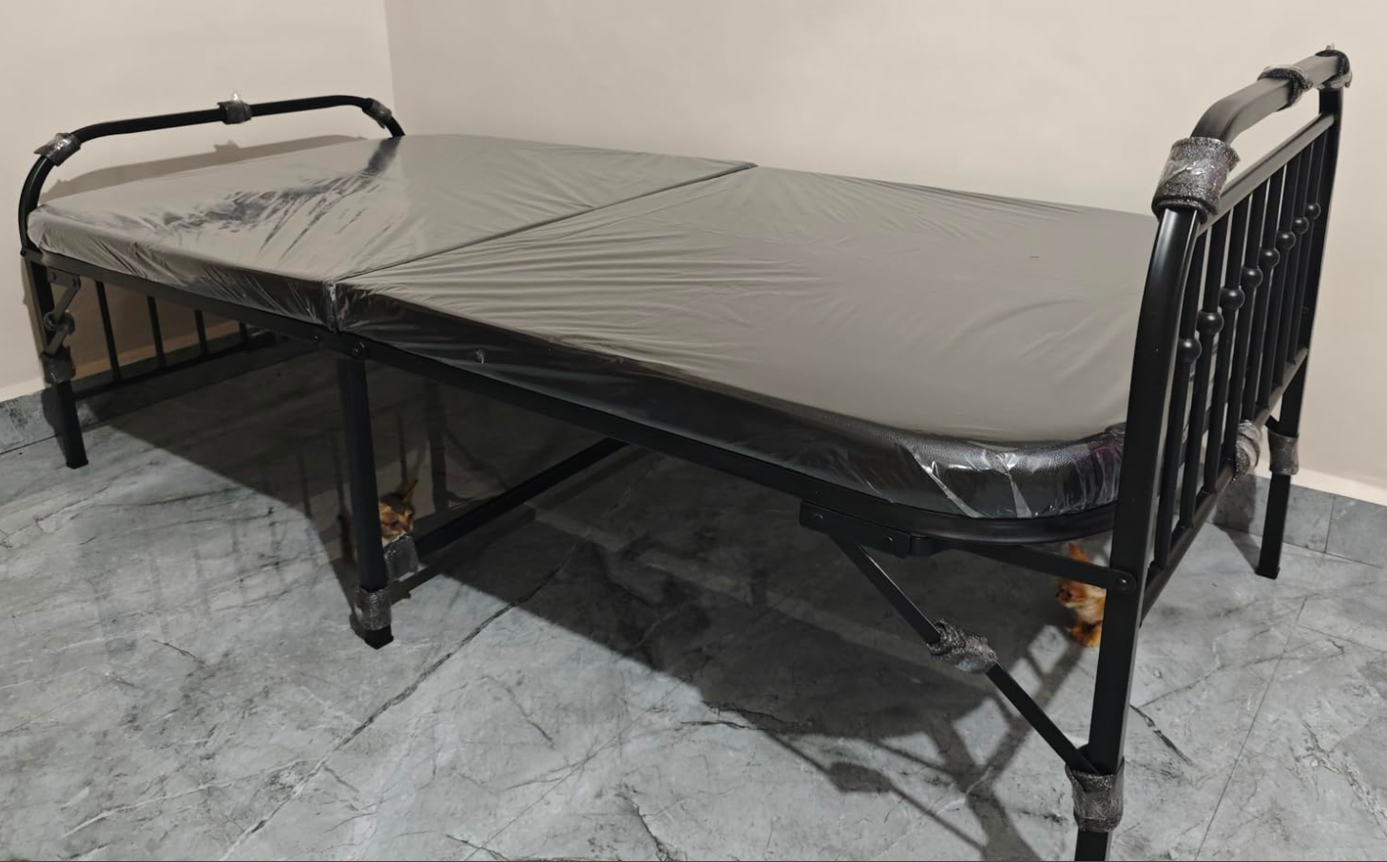cot: (13, 39, 1357, 862)
